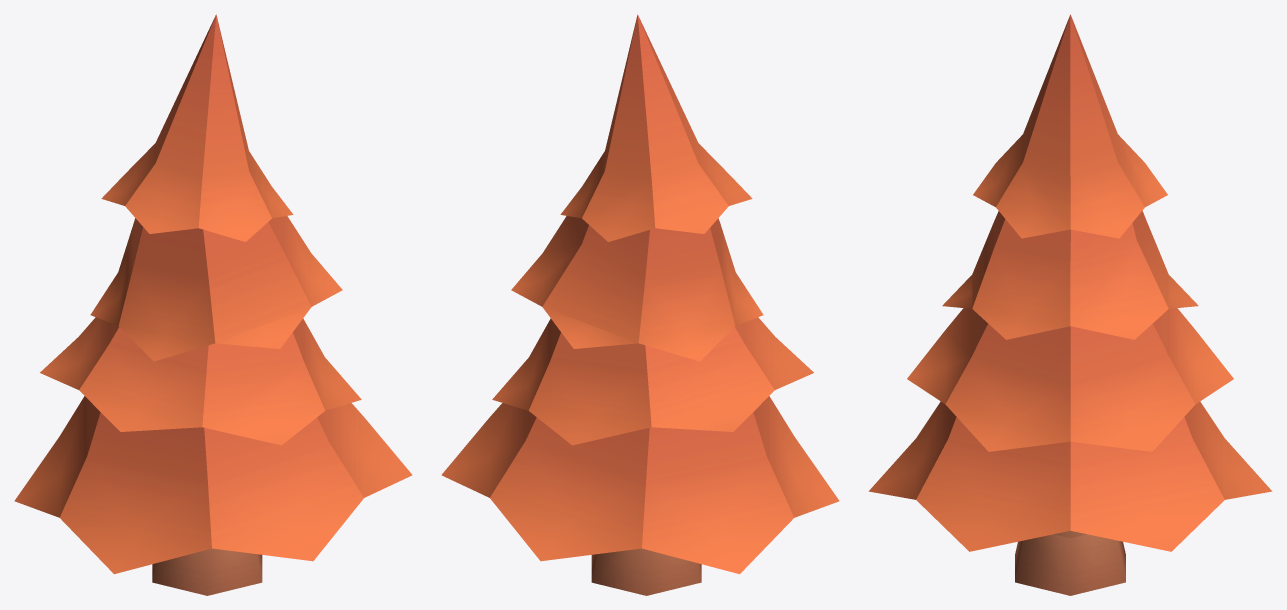
Rendered from pine-fall-crooked.glb.
The picture shows the model from 3 angles, left to right: view 1: azimuth 30°, elevation 25°; view 2: azimuth 150°, elevation 25°; view 3: azimuth 270°, elevation 25°; orthographic projection.
Parts seen in each view (by area): view 1: Asset3DLoader.sceneRoot; view 2: Asset3DLoader.sceneRoot; view 3: Asset3DLoader.sceneRoot.
Boxes of the visible parts, x1,y1,x2,y2 form: Asset3DLoader.sceneRoot: (14, 14, 412, 595); Asset3DLoader.sceneRoot: (441, 14, 839, 595); Asset3DLoader.sceneRoot: (868, 14, 1272, 595).
Bounding box in the file's own units: 1.17 × 2.04 × 1.33.
1 material, 1 textured.
